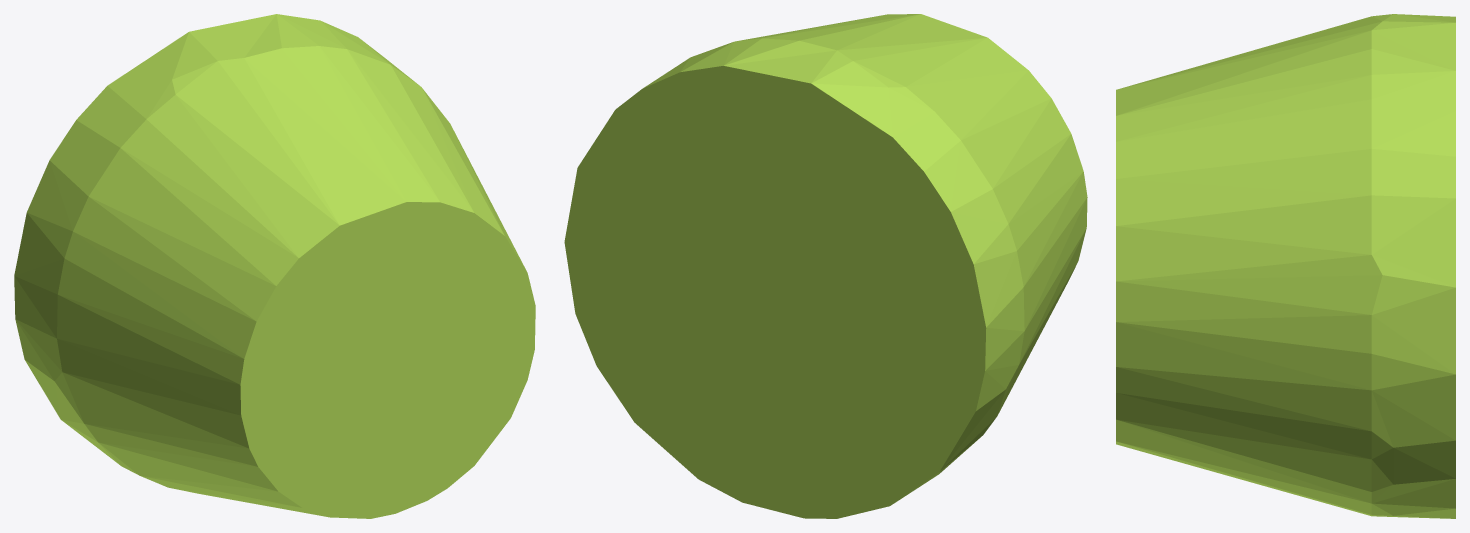
Rendered from ur3_robot_base_coll_1.dae.
3 renders of one model, left to right at view 1: azimuth 30°, elevation 25°; view 2: azimuth 150°, elevation 25°; view 3: azimuth 270°, elevation 25°, orthographic. The views are drawn at different scales.
Visible parts, largest first — view 1: Node_000002223FC9B740; view 2: Node_000002223FC9B740; view 3: Node_000002223FC9B740.
Boxes of the visible parts, x1=… form: Node_000002223FC9B740: x1=14, y1=14, x2=535, y2=518; Node_000002223FC9B740: x1=564, y1=14, x2=1087, y2=518; Node_000002223FC9B740: x1=1116, y1=14, x2=1455, y2=518.
Bounding box in the file's own units: 0.1279 × 0.1266 × 0.0861.
